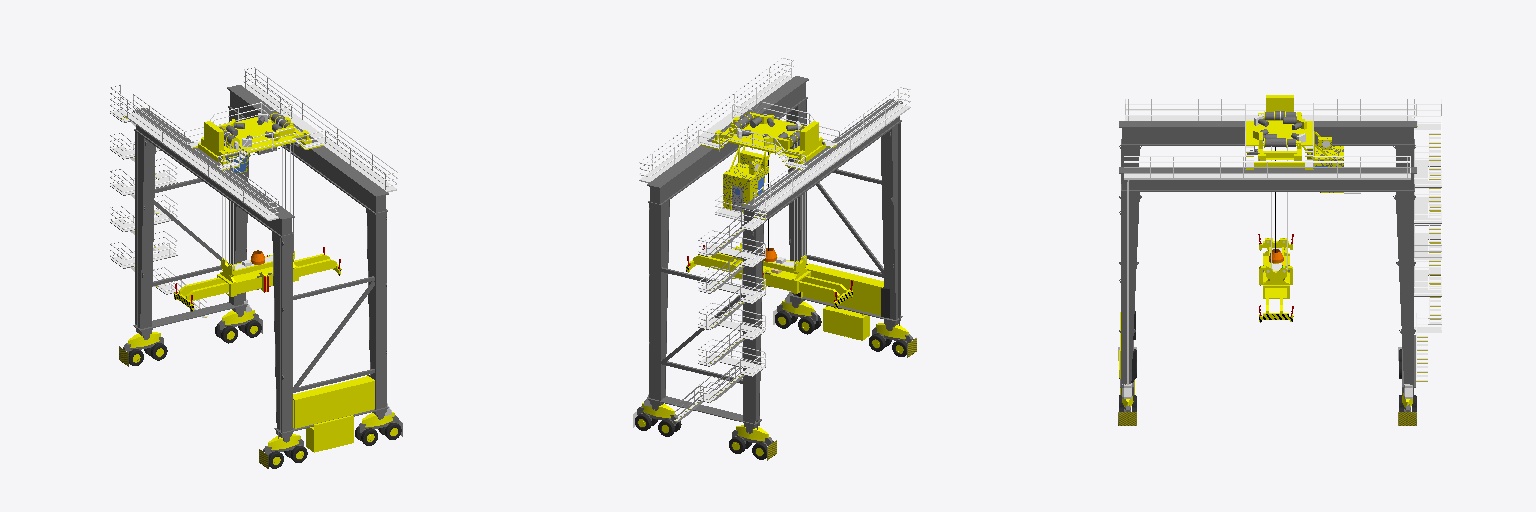
The picture shows the model from 3 angles: view 1: azimuth 30°, elevation 25°; view 2: azimuth 150°, elevation 25°; view 3: azimuth 270°, elevation 25°; orthographic projection.
Size of the model in its own units: 9.43 by 16.7 by 17.56.
Materials: 25 (4 with a texture image).